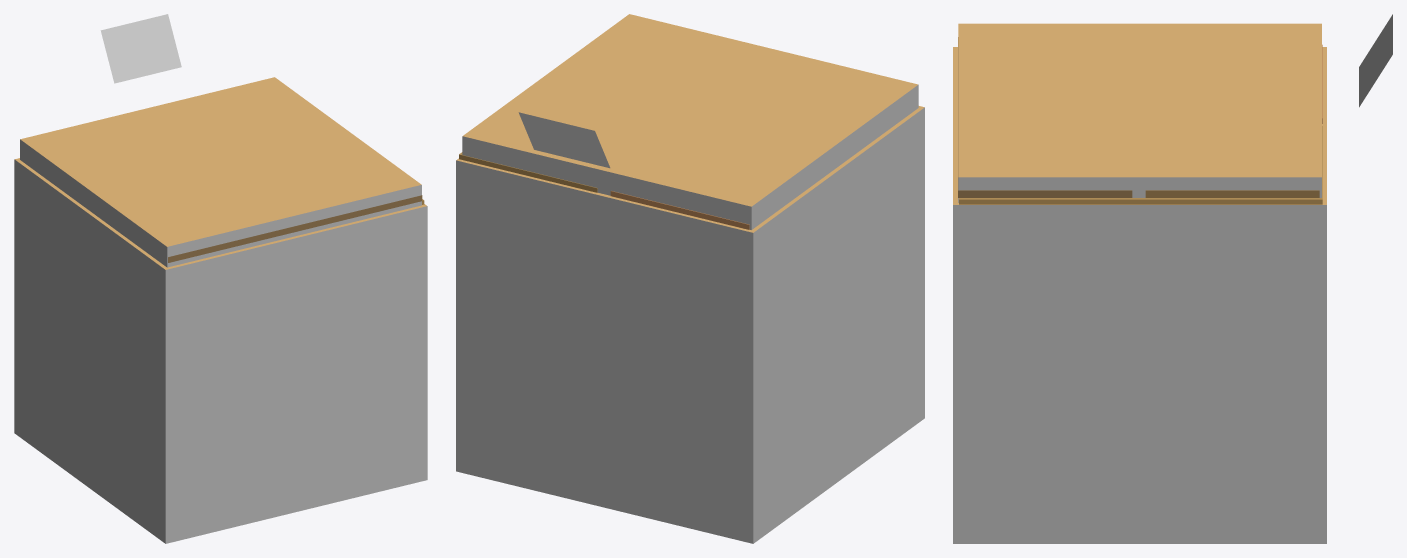
Rendered from boxukrclos.fbx.
3 views of the same model, side by side, from view 1: azimuth 30°, elevation 25°; view 2: azimuth 150°, elevation 25°; view 3: azimuth 270°, elevation 25° (orthographic). The views are drawn at different scales.
Parts seen in each view (by area): view 1: Cube, Cube.001, Плоскость, Куб.002; view 2: Cube, Cube.001, Плоскость, Куб.001, Куб; view 3: Cube, Cube.001, Куб, Куб.002, Плоскость, Куб.003.
Boxes of the visible parts, bbox=[...] form: Cube: bbox=[14, 158, 427, 543]; Cube.001: bbox=[20, 77, 421, 267]; Плоскость: bbox=[100, 14, 181, 83]; Куб.002: bbox=[168, 195, 422, 262]; Cube: bbox=[456, 106, 924, 543]; Cube.001: bbox=[462, 14, 918, 229]; Плоскость: bbox=[518, 112, 610, 168]; Куб.001: bbox=[610, 191, 749, 229]; Куб: bbox=[459, 152, 597, 192]; Cube: bbox=[953, 47, 1326, 543]; Cube.001: bbox=[958, 23, 1321, 202]; Куб: bbox=[959, 126, 1322, 204]; Куб.002: bbox=[958, 37, 1132, 197]; Плоскость: bbox=[1359, 14, 1392, 107]; Куб.003: bbox=[1145, 190, 1319, 197].
Size of the model in its own units: 1100 by 1429 by 1294.
